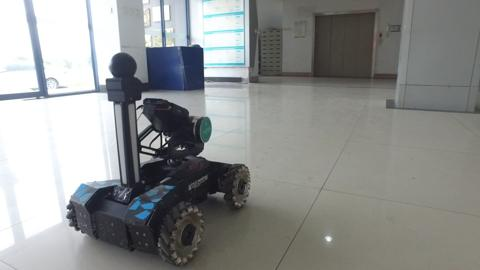chariot: (58, 47, 258, 268)
